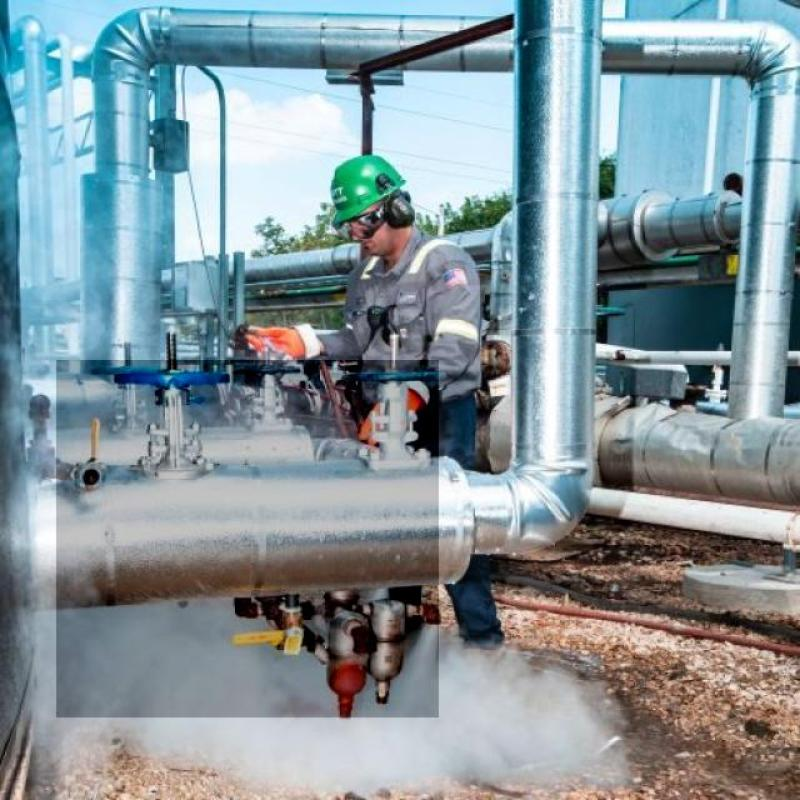Fracture: (92, 473, 300, 617)
